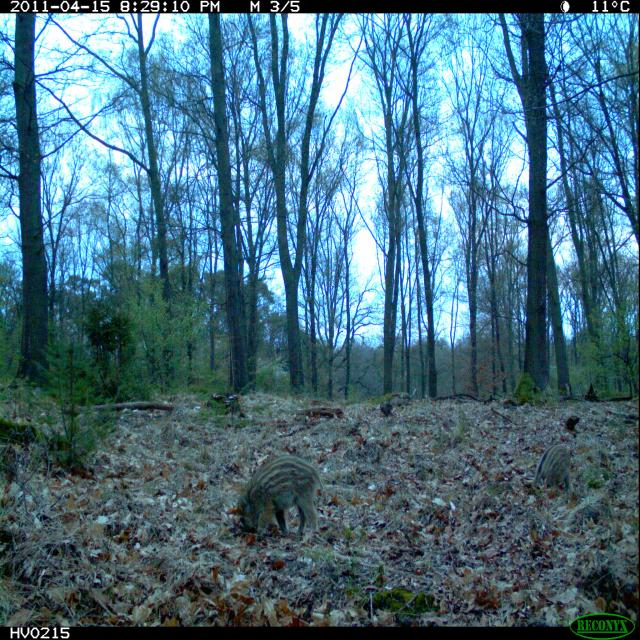boar: (215, 420, 334, 560)
